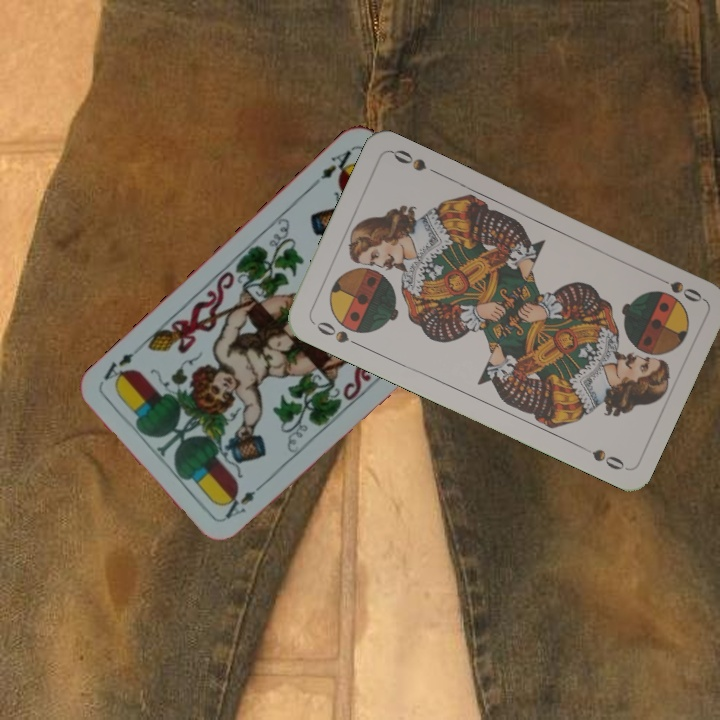EA: (308, 146, 358, 190), (221, 477, 269, 522)
SO: (650, 271, 705, 305), (309, 317, 364, 350)
